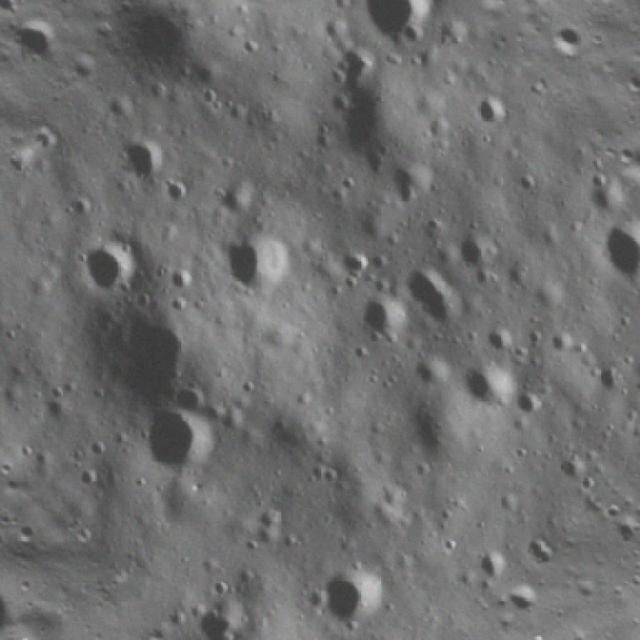crater: (88, 295, 202, 411), (131, 396, 217, 482), (213, 217, 295, 298), (181, 571, 270, 640), (68, 230, 146, 307), (102, 126, 180, 202), (398, 258, 472, 334), (342, 0, 442, 54), (587, 197, 640, 293), (318, 560, 387, 632), (447, 348, 513, 415), (449, 215, 509, 276), (348, 290, 406, 348), (508, 376, 554, 422), (479, 312, 521, 354), (469, 87, 511, 128), (172, 376, 212, 416), (221, 0, 301, 15)
